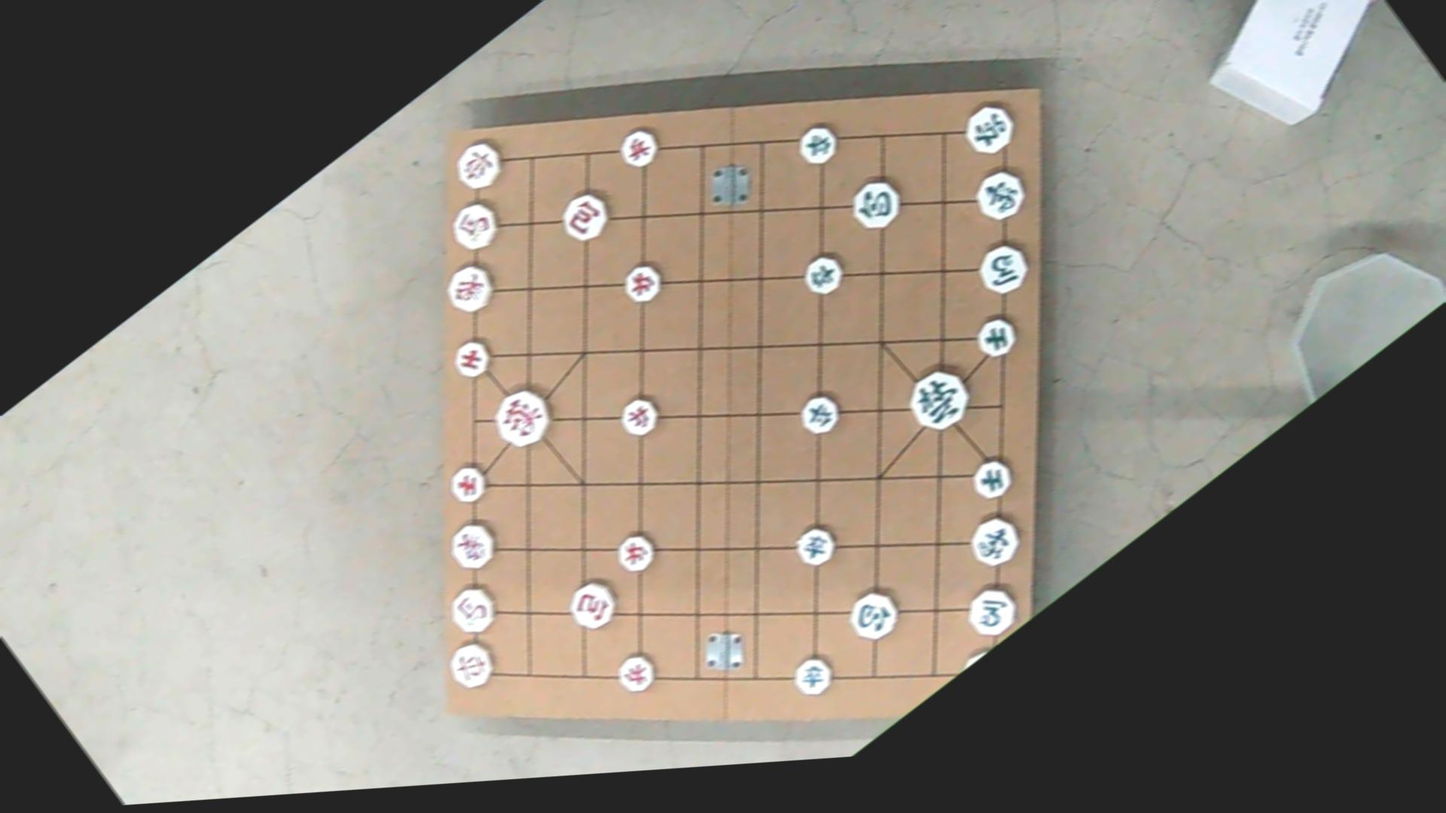cha_green: (957, 95, 1022, 163)
cha_red: (447, 132, 510, 198), (442, 635, 502, 697)
jol_green: (794, 387, 847, 443), (799, 248, 852, 303), (789, 648, 841, 702), (793, 518, 844, 572), (794, 119, 845, 173)
jol_red: (619, 256, 670, 310), (616, 120, 667, 173), (614, 644, 664, 697), (613, 524, 663, 577), (616, 391, 666, 443)
ma_green: (971, 234, 1037, 304), (961, 577, 1026, 645)
ma_red: (446, 192, 508, 258), (443, 581, 503, 645)
po_green: (844, 580, 908, 647), (845, 172, 908, 237)
po_red: (563, 571, 626, 638), (557, 183, 618, 248)
sa_green: (970, 309, 1023, 365), (968, 453, 1020, 507)
sa_red: (448, 336, 496, 387), (445, 458, 493, 509)
sang_green: (966, 160, 1034, 230), (964, 507, 1027, 574)
sang_red: (440, 256, 502, 322), (445, 515, 505, 578)
wang_green: (901, 358, 981, 442)
wang_red: (488, 379, 561, 456)
